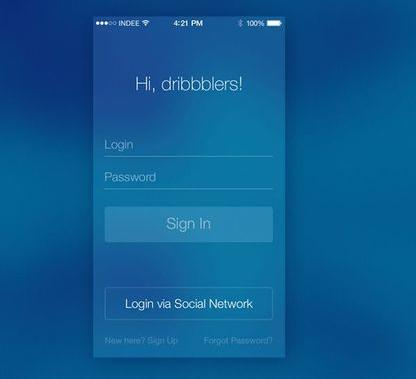button: (103, 205, 275, 245), (103, 285, 274, 322)
field_line: (100, 135, 273, 160), (103, 169, 275, 192)
